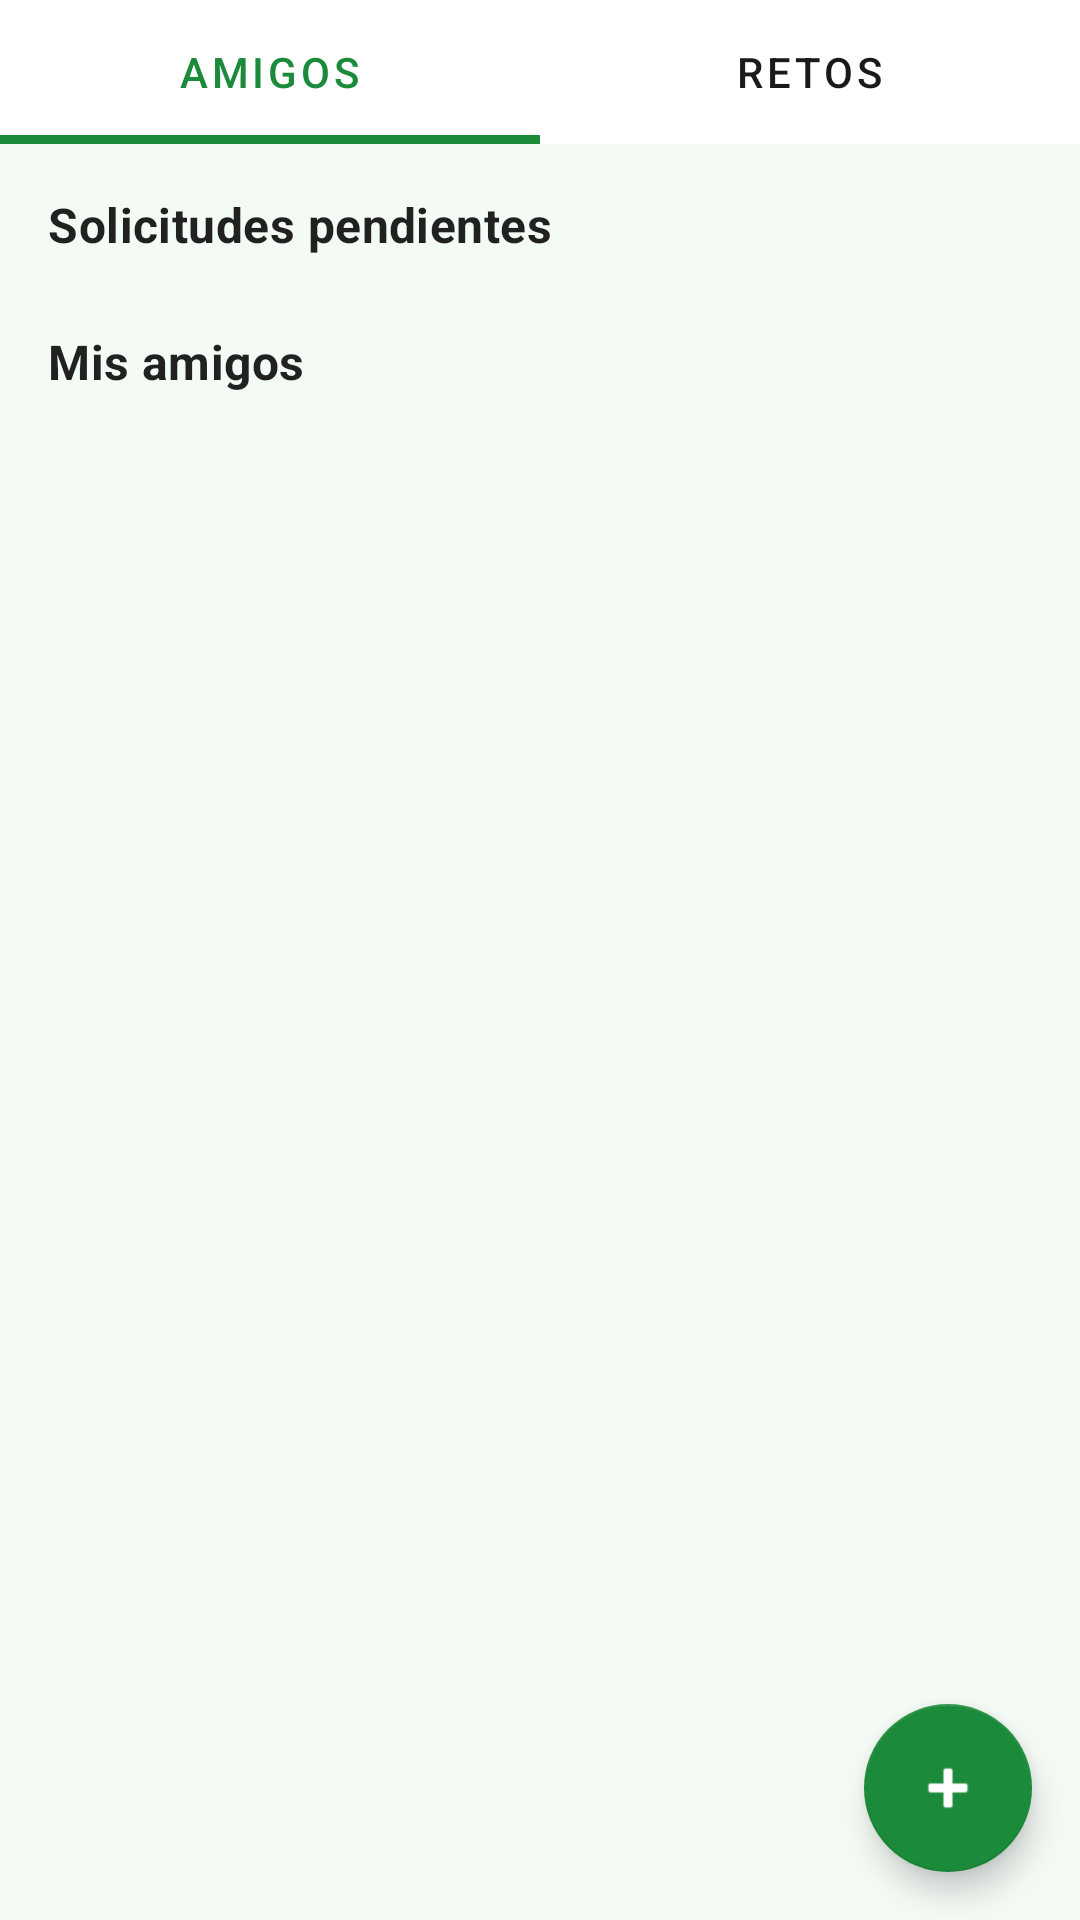

Where to tap for icons on this 1080×1920 app screen, as (x,y):
Añadir amigo: (948,1788)
